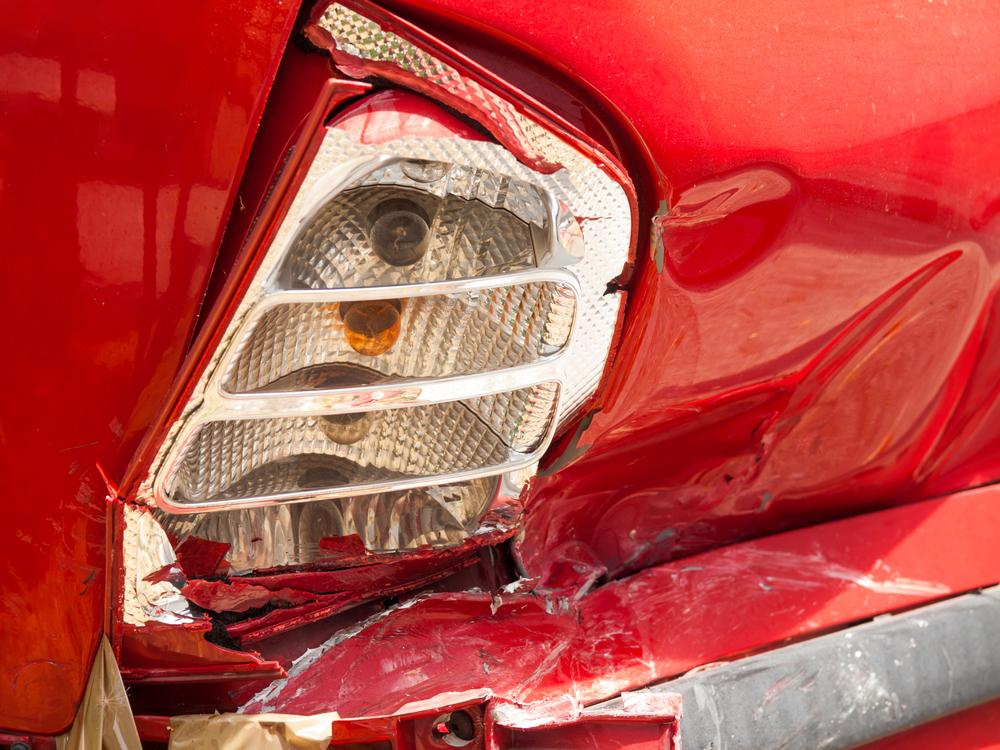dent: (527, 160, 1000, 583)
lamp broken: (124, 3, 639, 582)
scratch: (276, 548, 953, 750)
